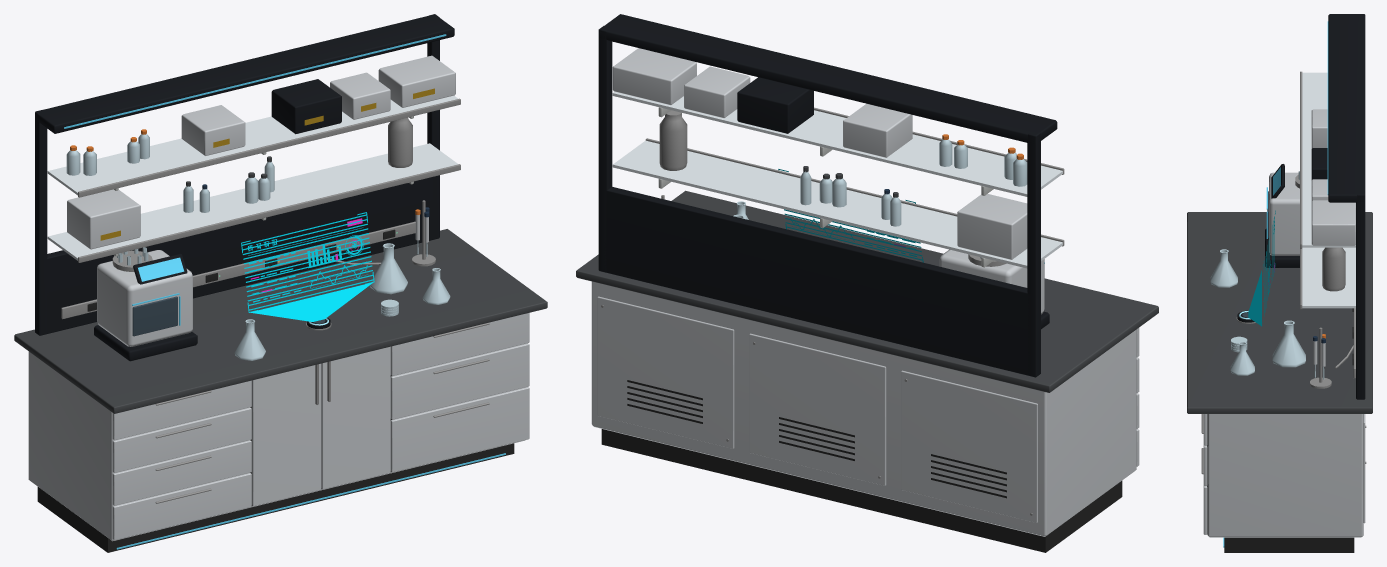
Rendered from Lab_Bench_B.fbx.
3 renders of one model, left to right at view 1: azimuth 30°, elevation 25°; view 2: azimuth 150°, elevation 25°; view 3: azimuth 270°, elevation 25°, orthographic. The views are drawn at different scales.
Parts seen in each view (by area): view 1: Lab_Bench_B_LOD0; view 2: Lab_Bench_B_LOD0; view 3: Lab_Bench_B_LOD0.
Boxes of the visible parts, box(x1,y1,x2,y2) form: Lab_Bench_B_LOD0: box(14, 14, 547, 552); Lab_Bench_B_LOD0: box(576, 14, 1158, 552); Lab_Bench_B_LOD0: box(1187, 14, 1372, 552).
Size of what is drawn, in the model's own units: 2.5 by 2.12 by 1.
